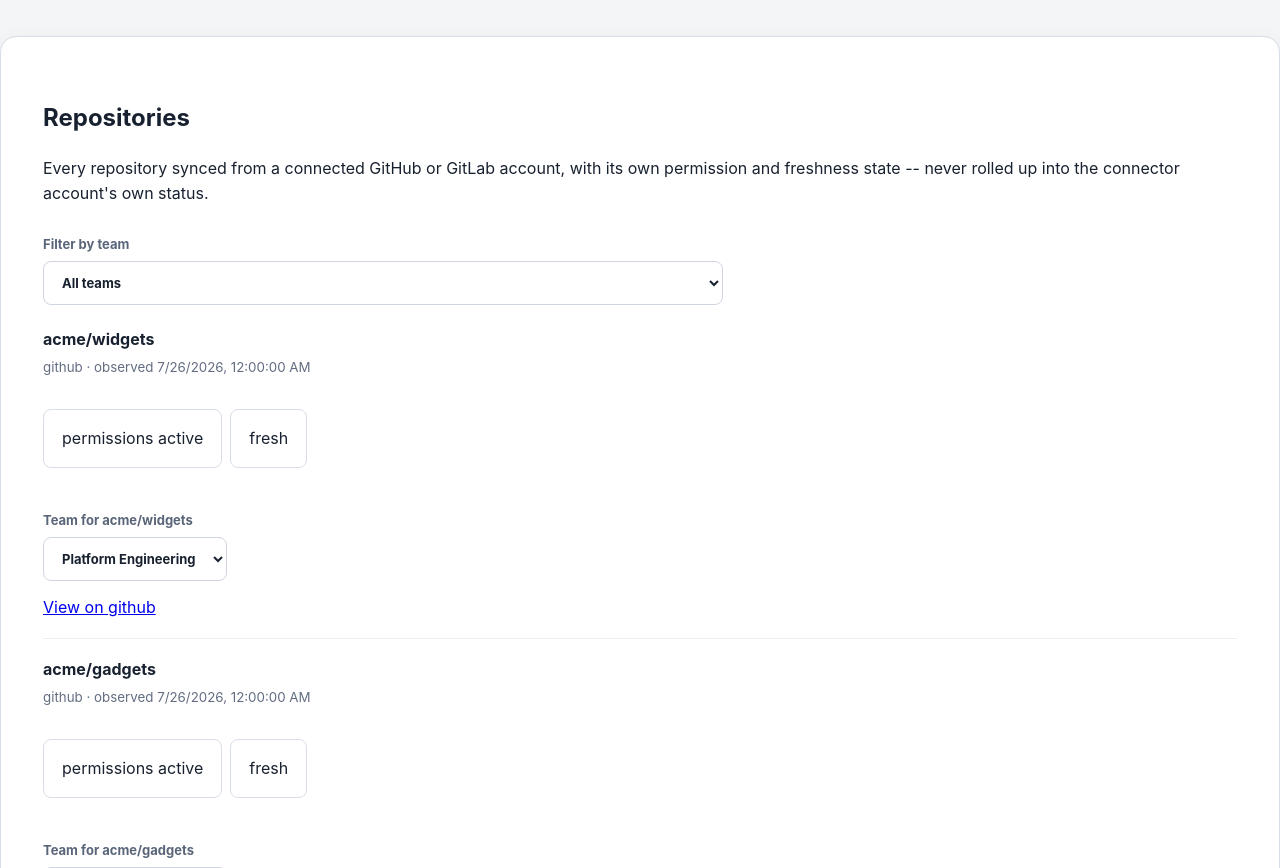
Test: RepositoriesPanel › filtering by team only shows repositories assigned to that team
Expected: the text "acme/widgets" is shown, [43,329,154,349]
Expected: the text "acme/gadgets" is shown, [43,659,156,679]
Select "Platform Engineering" in the dropdown named "Filter repositories by team": (383, 283) [43,261,723,305]
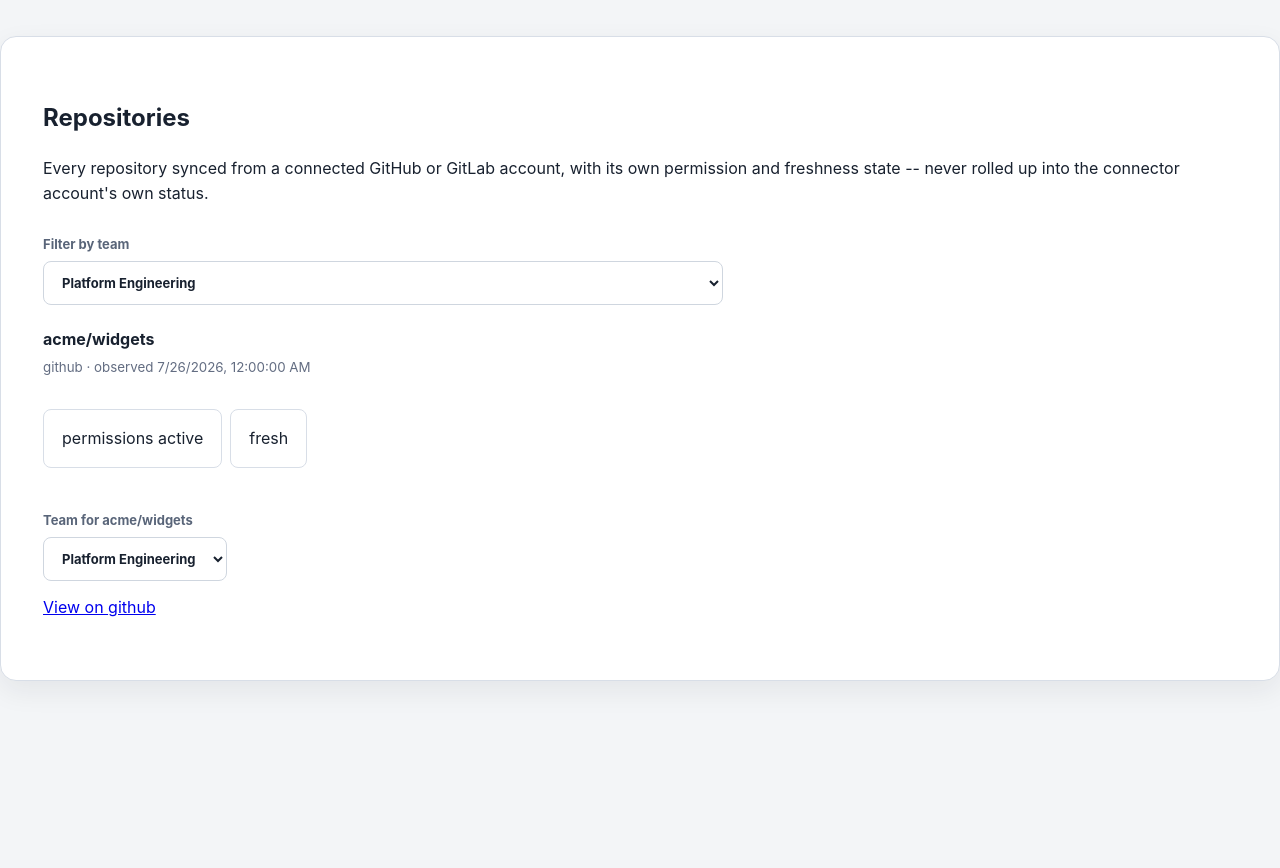
Expected: the text "acme/widgets" is shown, [43,329,154,349]
Now the text "acme/gadgets" is gone
